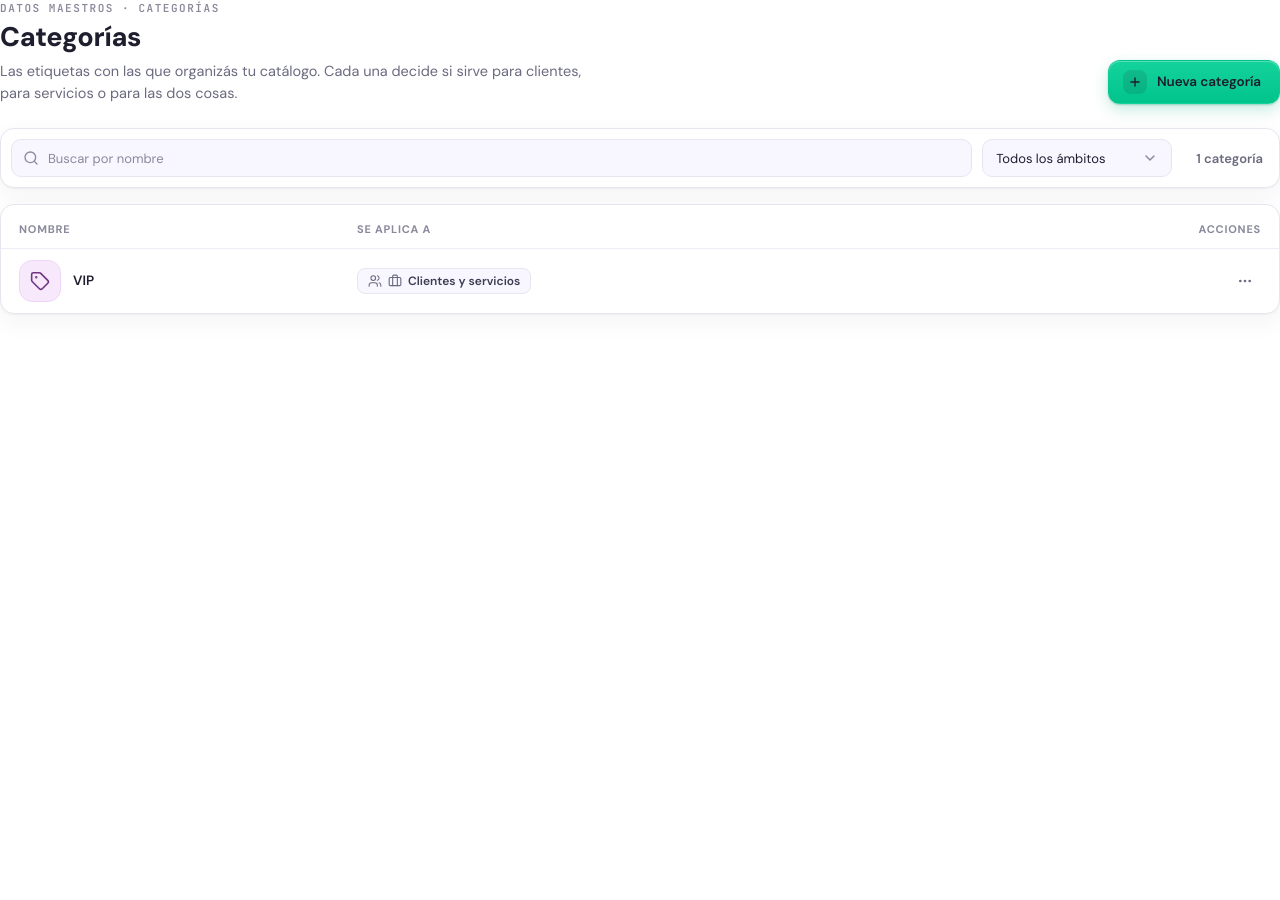
Scenario: ListadoDeCategorias › editar precarga los datos
Click the button named "Más acciones para": (1245, 281) [1229,265,1261,297]
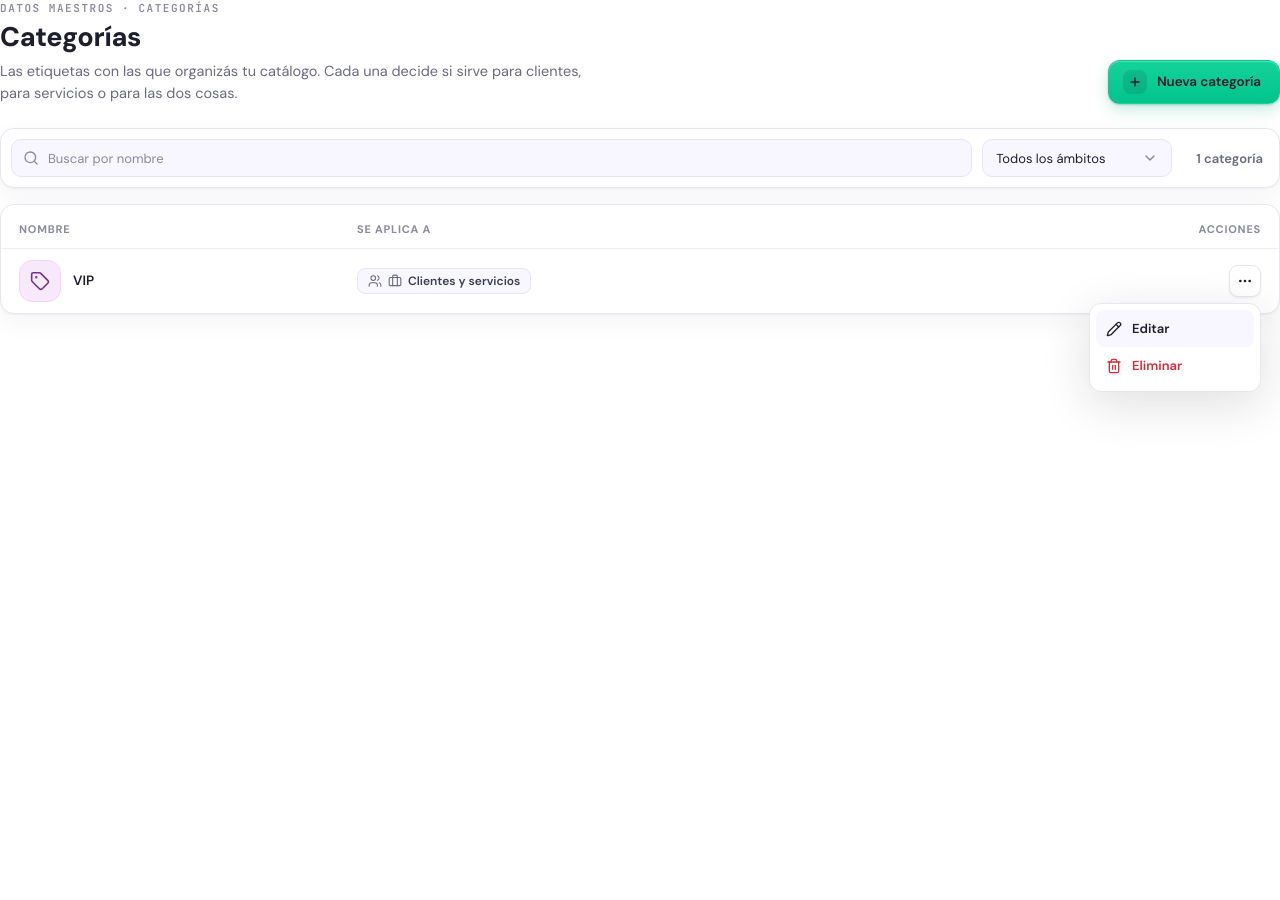
Click the menu item "Editar": (1175, 329) [1096,310,1254,347]
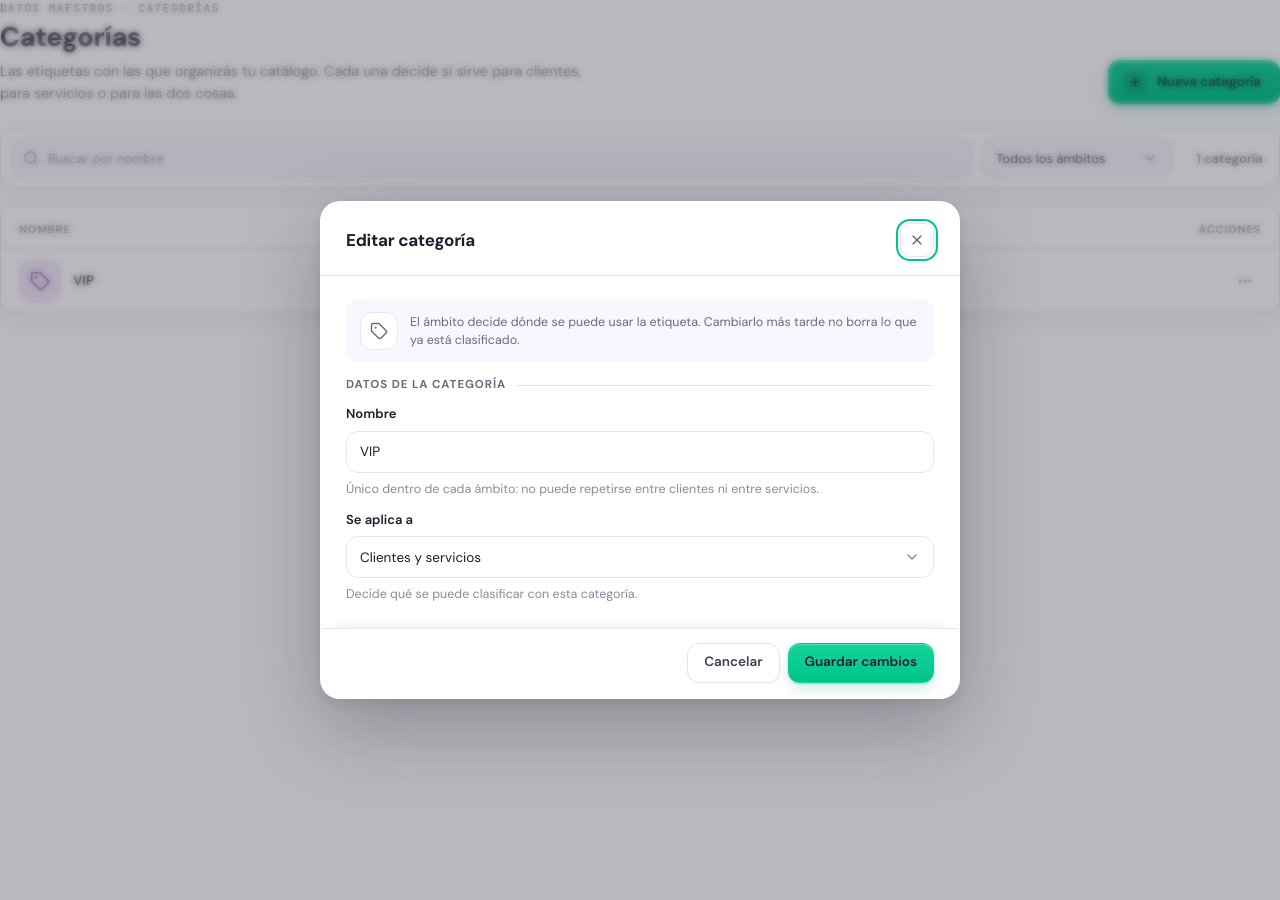
Expected: the field labelled "Nombre" holds "VIP", [346,431,934,473]
Expected: the dropdown labelled "Se aplica a" shows "Clientes y servicios", [346,536,934,578]
